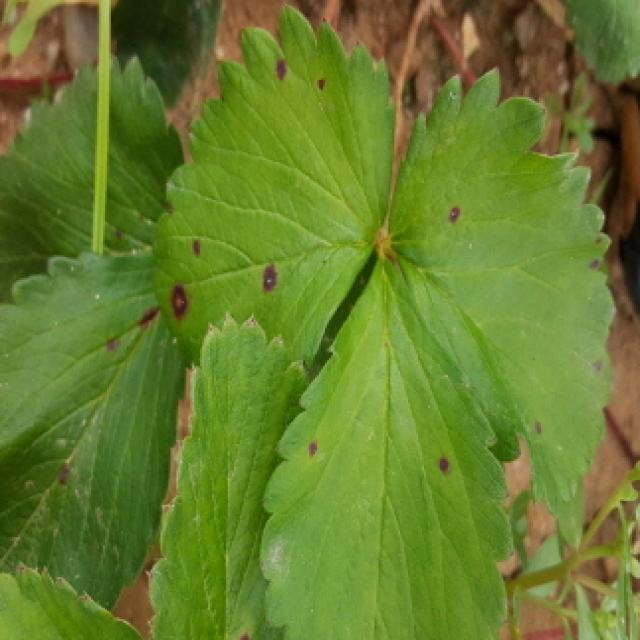Leaf Spot: (384, 66, 614, 514), (256, 247, 516, 640), (152, 1, 395, 370), (0, 248, 190, 611), (144, 308, 314, 640), (0, 53, 185, 304)
